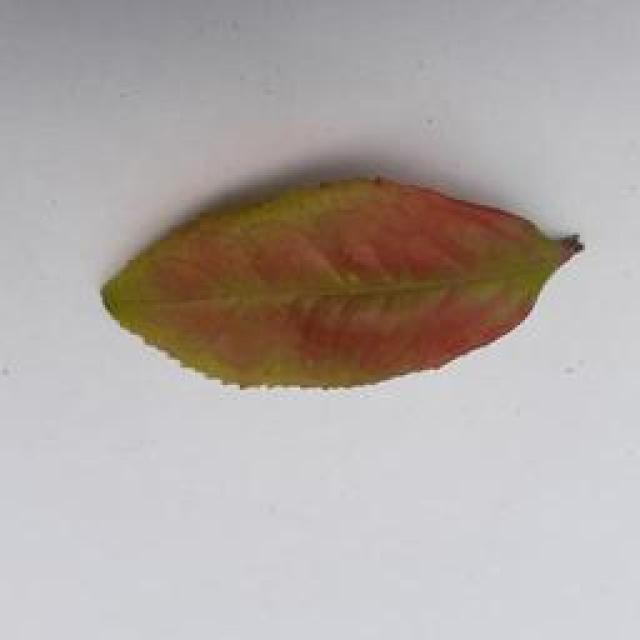Red Leaf Spot: (85, 147, 582, 416)
